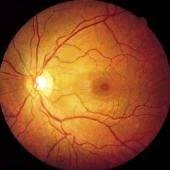Glaucoma section-1: (35, 76, 48, 90)
Glaucoma section-2: (30, 71, 54, 99)
